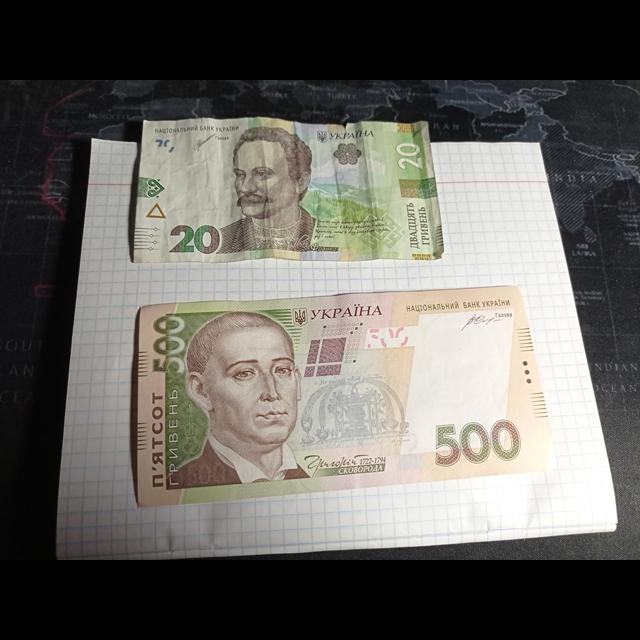20uah: (135, 119, 445, 263)
500uah: (137, 285, 554, 505)
